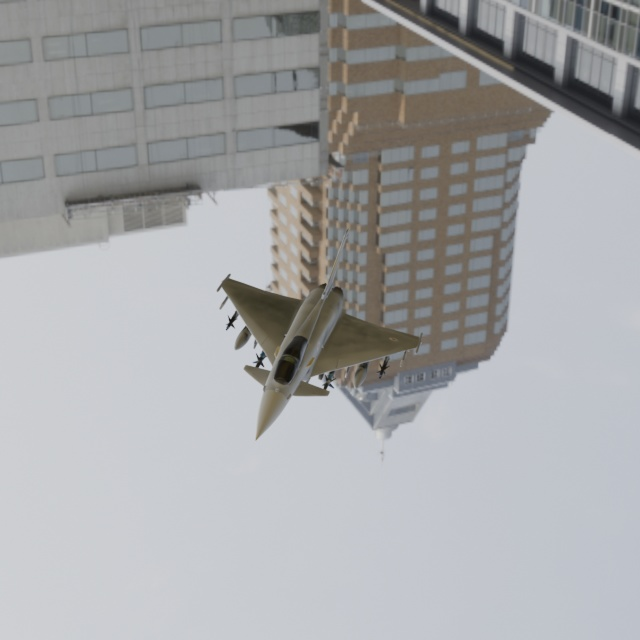eurofighter_typhoon_3d: (126, 197, 449, 519)
